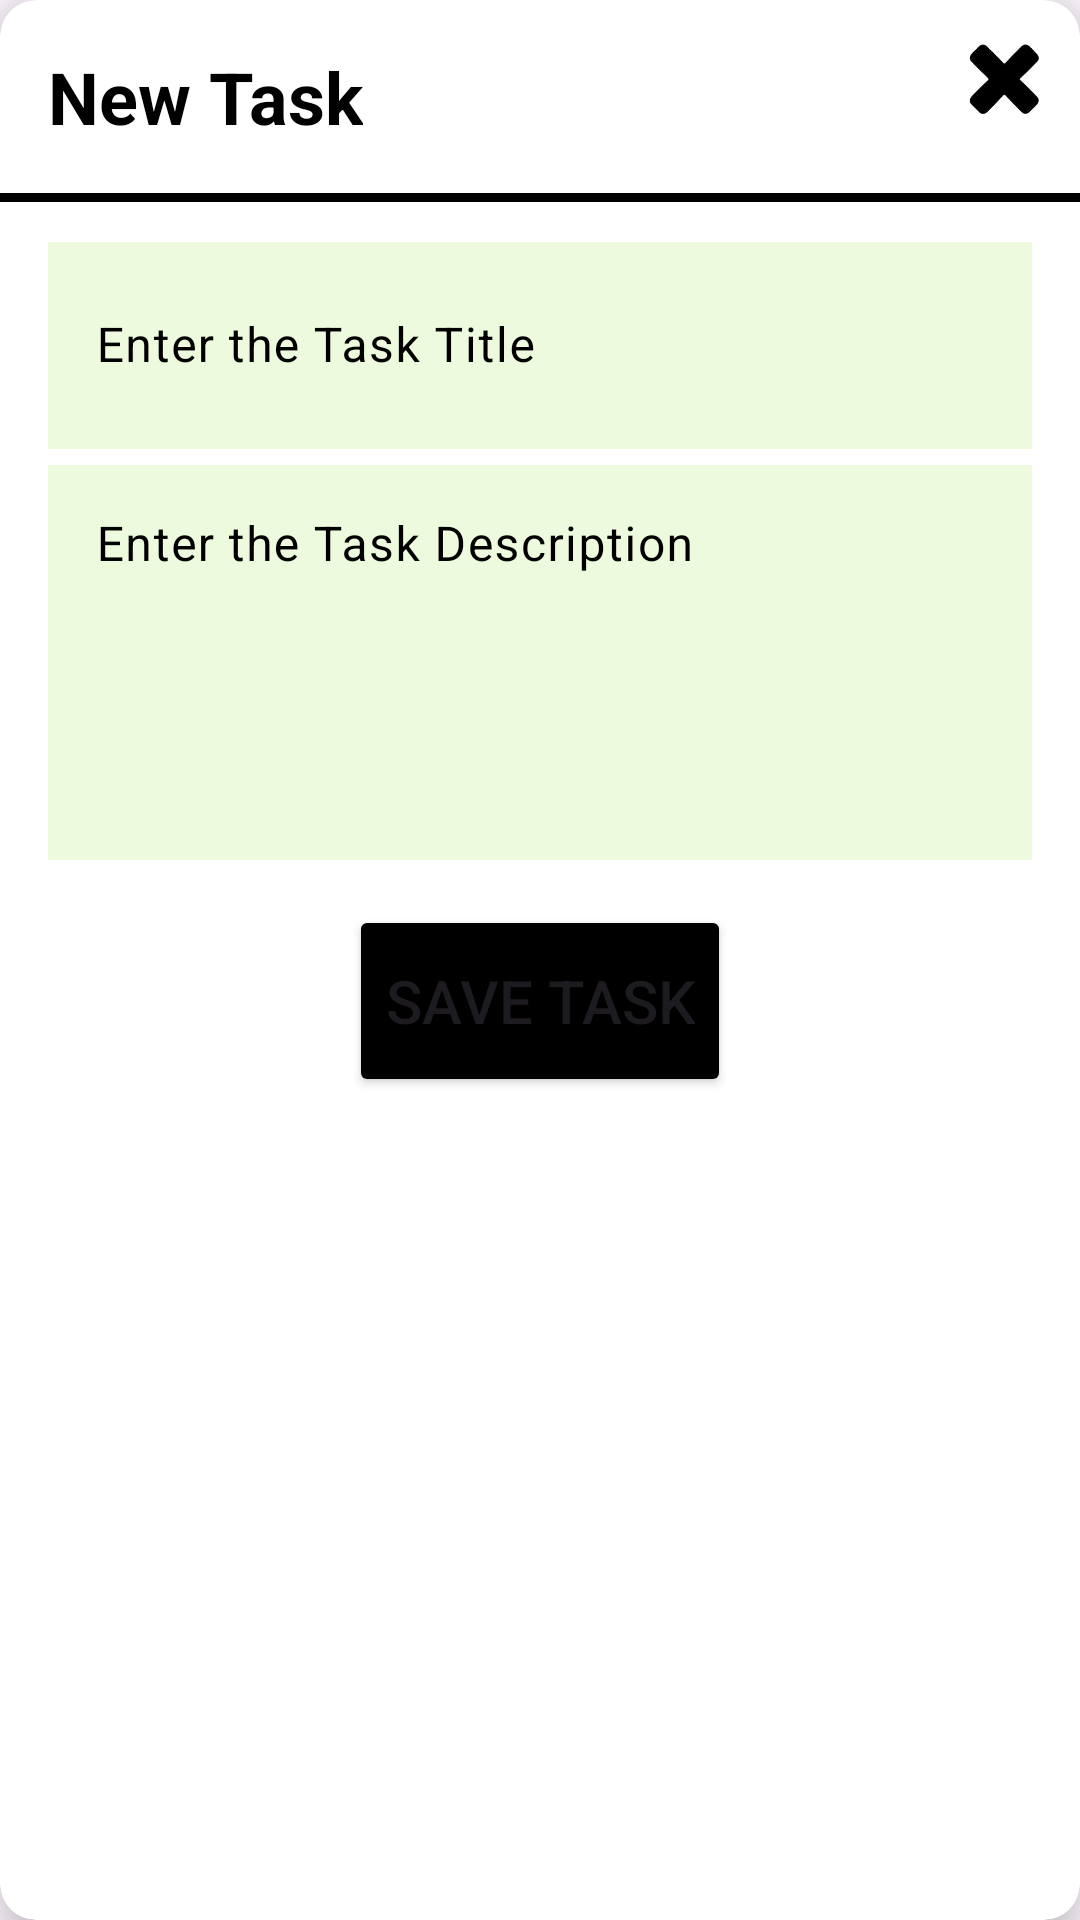

Where icons sit on this 1080 × 1920 app screen, as rect(x1, y1, x2, y2):
closeicon: rect(969, 44, 1039, 114)
